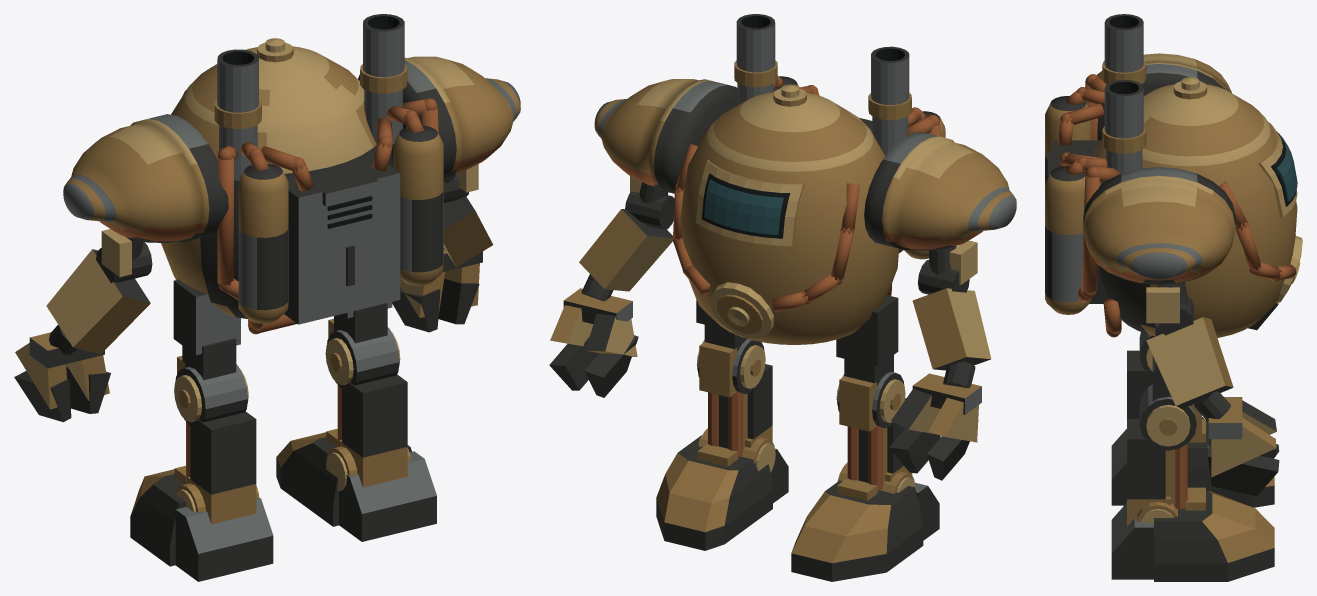
3 views of the same model, side by side, from view 1: azimuth 30°, elevation 25°; view 2: azimuth 150°, elevation 25°; view 3: azimuth 270°, elevation 25° (orthographic). The views are drawn at different scales.
Bounding box in the file's own units: 3.6 × 4 × 1.99.
